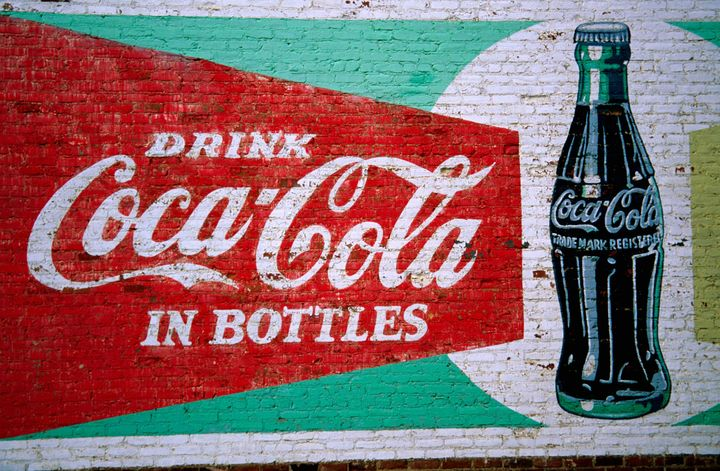Glass bottle: (525, 20, 679, 422)
